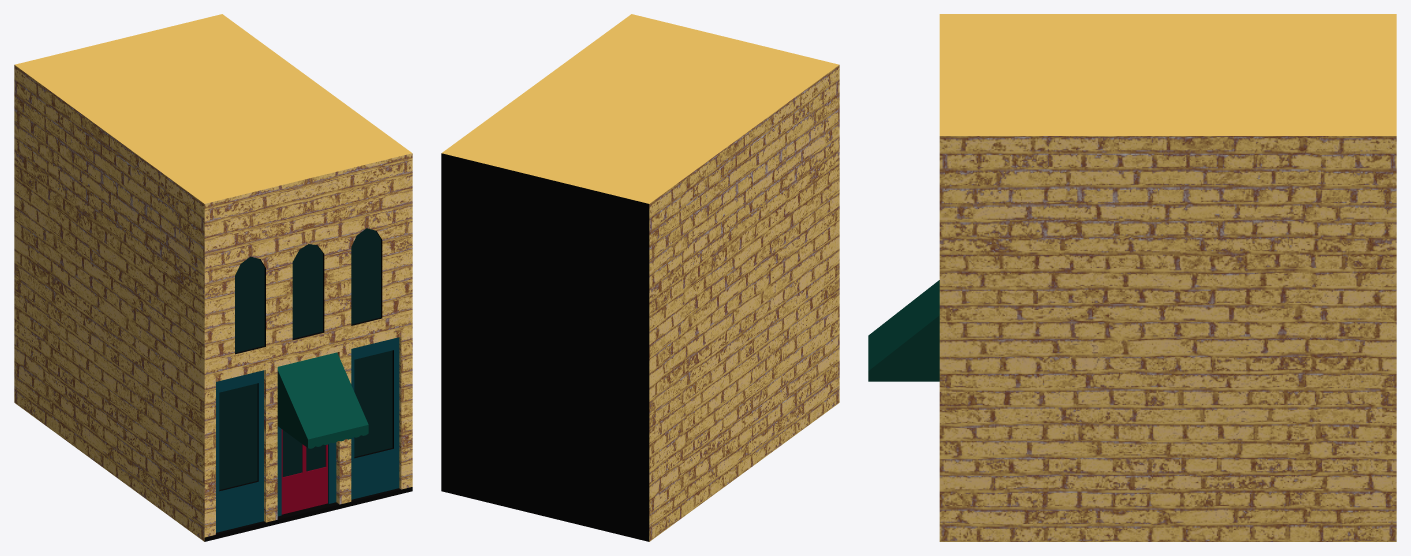
Rendered from store3.fbx.
3 views of the same model, side by side, from view 1: azimuth 30°, elevation 25°; view 2: azimuth 150°, elevation 25°; view 3: azimuth 270°, elevation 25° (orthographic). The views are drawn at different scales.
Visible parts, largest first — view 1: Plane, Plane.001; view 2: Plane; view 3: Plane, Plane.001.
Boxes of the visible parts, x1,y1,x2,y2 form: Plane: [14, 14, 412, 541]; Plane.001: [277, 352, 368, 448]; Plane: [441, 14, 839, 541]; Plane: [939, 14, 1396, 541]; Plane.001: [868, 280, 939, 381].
Size of the model in its own units: 511 by 794 by 936.
